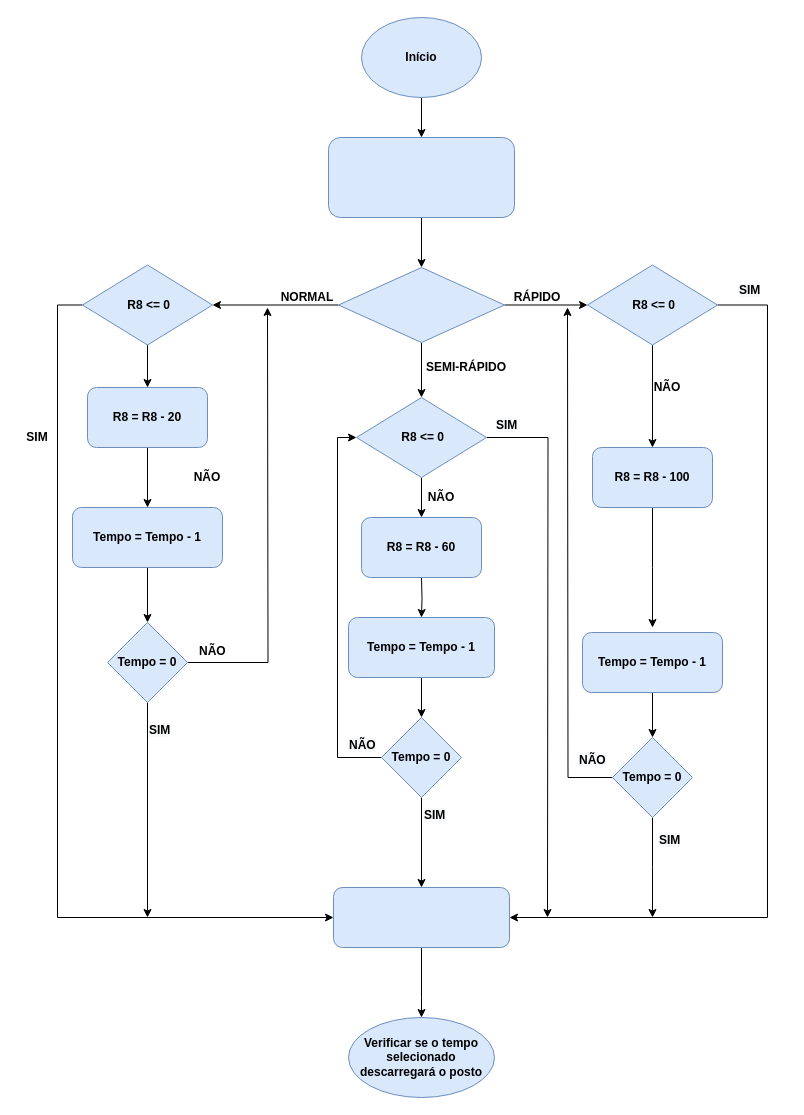
Some shapes in this 804 by 1115 pixel diagram are drawn without their labels. The shapes that lost their labels are listed below. From the top down, each one's box as (x1, y1, x2, y2) in pixels, then its label:
(328, 136, 514, 218): Tempo = InputTempo R8 = 100 R8 = R8 - BateriaCarro TempoFornecimento = Tempo
(338, 266, 504, 342): Tipo de Carregamento
(332, 886, 510, 948): TempoFornecimento = TempoFornecimento - Tempo
